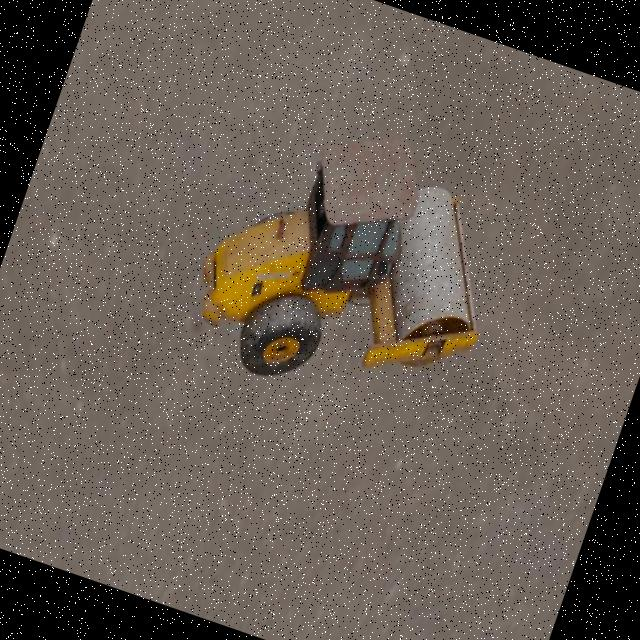Roller: (172, 88, 530, 439)
